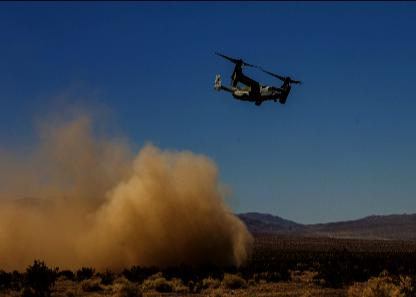Tornado: (214, 52, 304, 104)
